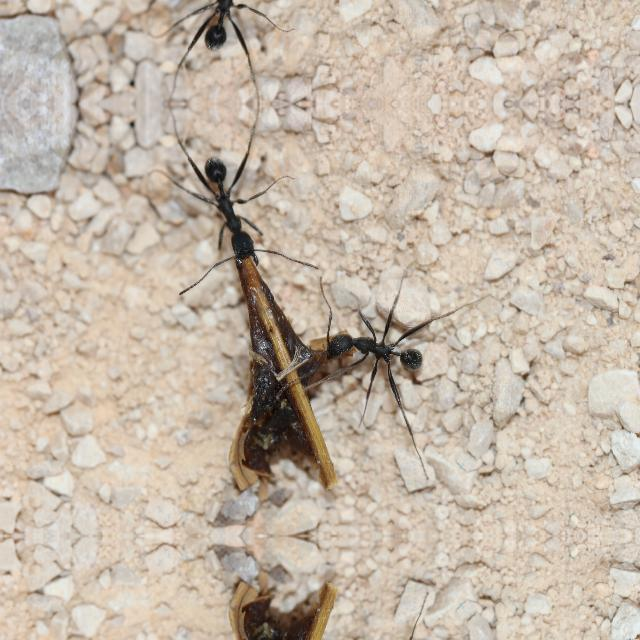Apheanogaster: (175, 139, 292, 273), (308, 315, 436, 381), (174, 0, 291, 66)
